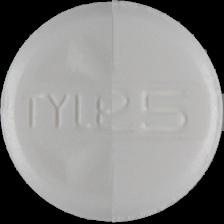50580-496: (0, 0, 224, 224)
